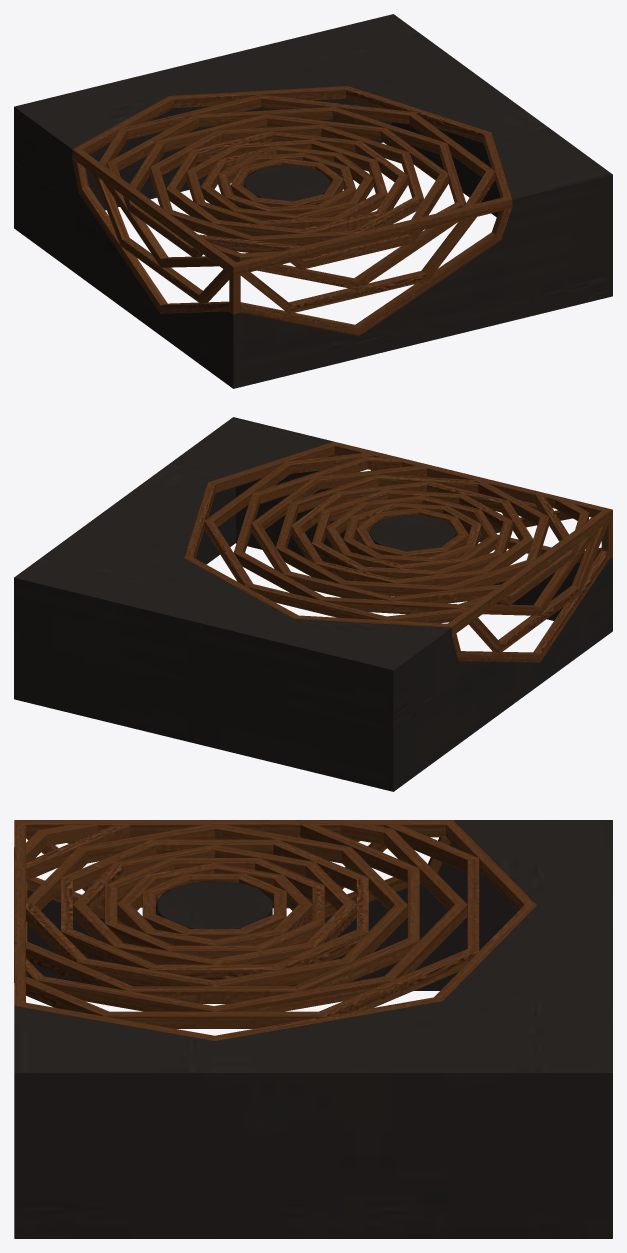
Rendered from modern_coffee_table_02.glb.
3 renders of one model, top to bottom at view 1: azimuth 30°, elevation 25°; view 2: azimuth 150°, elevation 25°; view 3: azimuth 270°, elevation 25°, orthographic. The views are drawn at different scales.
Parts seen in each view (by area): view 1: modern_coffee_table_02; view 2: modern_coffee_table_02; view 3: modern_coffee_table_02.
Boxes of the visible parts, x1=… form: modern_coffee_table_02: x1=14, y1=14, x2=612, y2=388; modern_coffee_table_02: x1=14, y1=417, x2=612, y2=791; modern_coffee_table_02: x1=14, y1=820, x2=612, y2=1238.
Size of the model in its own units: 1.2 by 0.3692 by 1.2.
2 materials, 2 textured.
